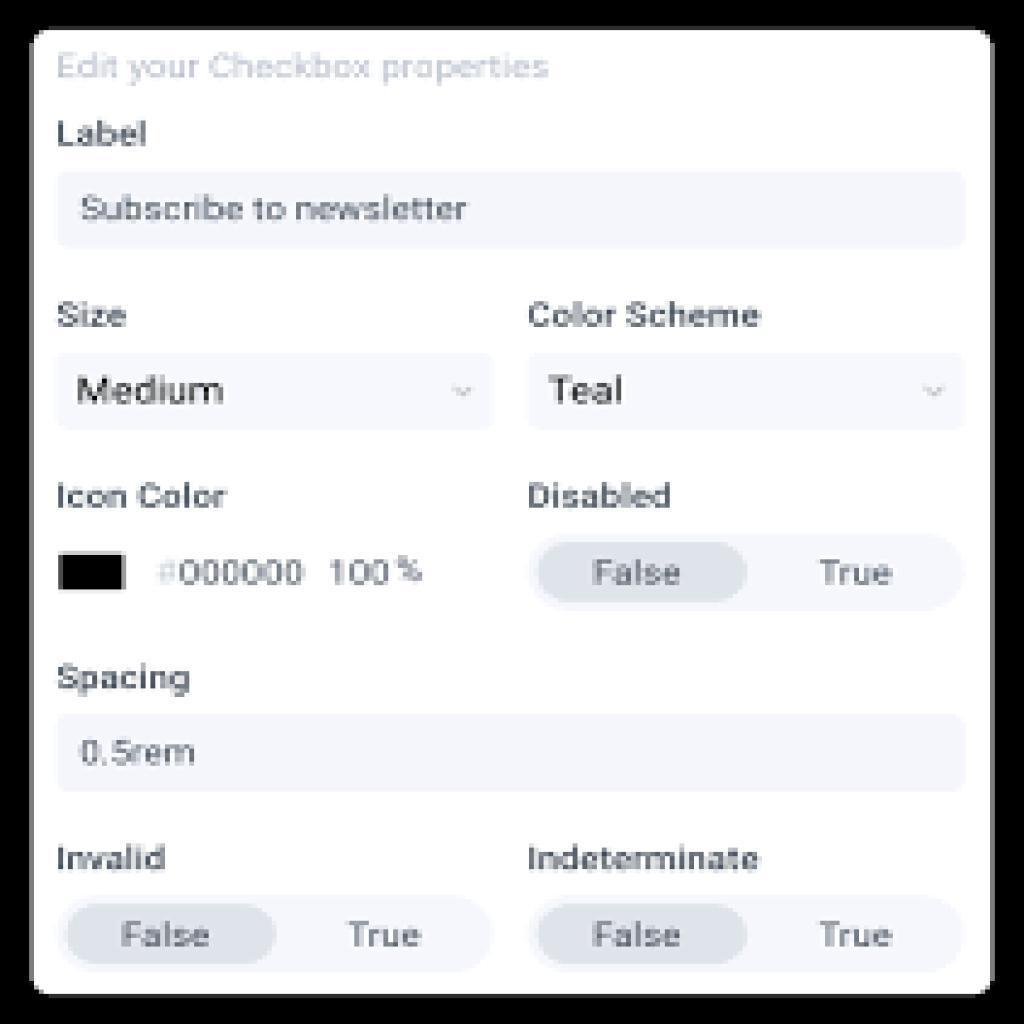dropdown: (514, 358, 958, 434), (54, 355, 488, 430)
input: (63, 171, 962, 253), (57, 712, 965, 789)
